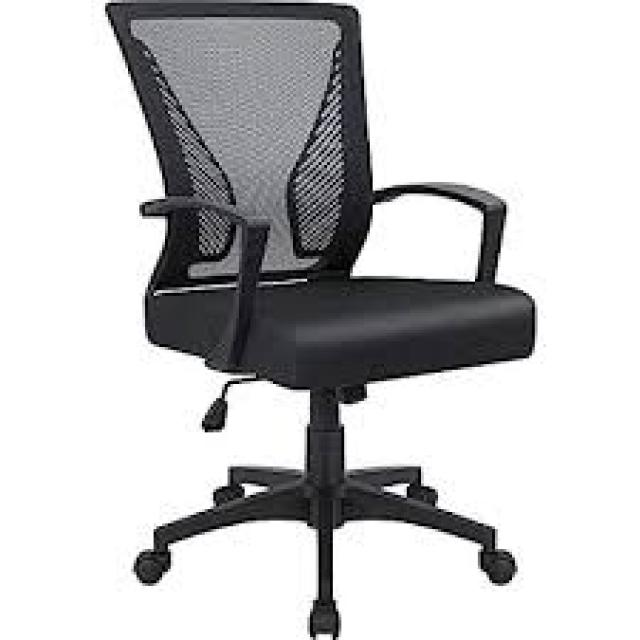chair: (64, 0, 553, 640)
